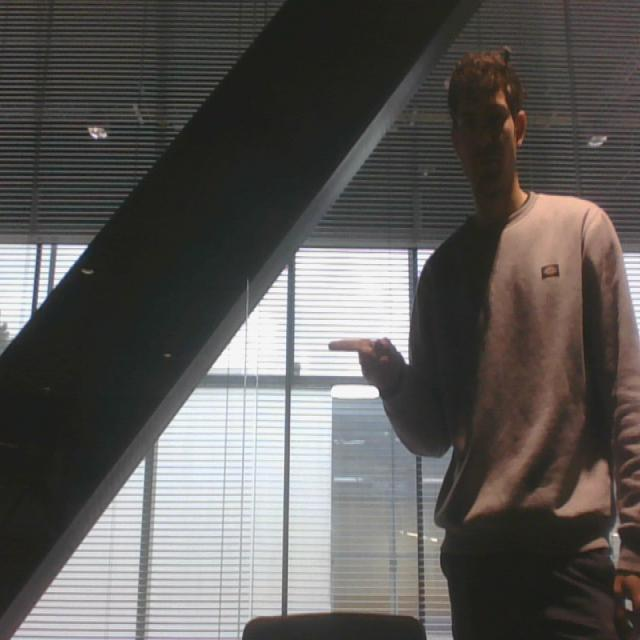left: (321, 327, 403, 394)
